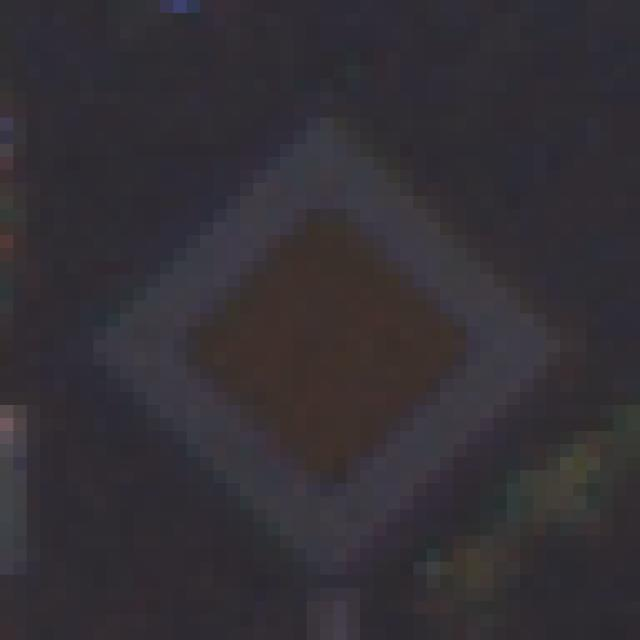Main Road: (68, 79, 574, 576)
